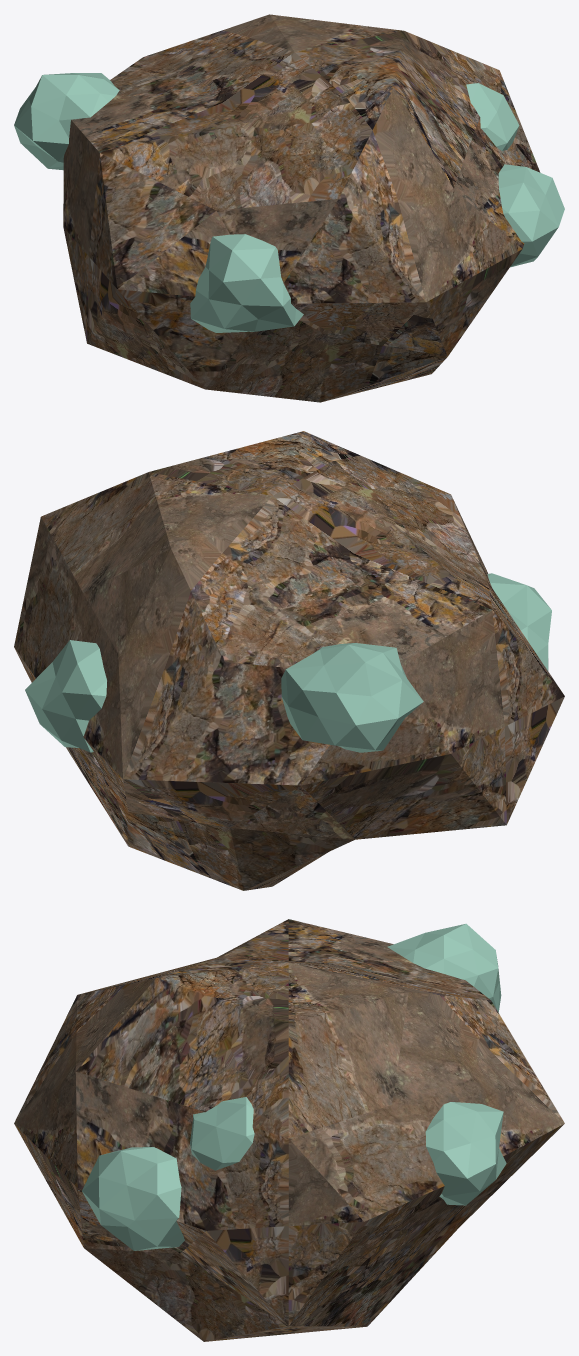
File: copper_ore.glb
The picture shows the model from 3 angles, top to bottom: view 1: azimuth 30°, elevation 25°; view 2: azimuth 150°, elevation 25°; view 3: azimuth 270°, elevation 25°; orthographic projection. The views are drawn at different scales.
Visible parts, largest first — view 1: rock, v2, v1, v0, v5; view 2: rock, v1, v3, v2; view 3: rock, v0, v3, v1, v5.
Part boxes in pixels (<box>): rock: <box>63,14,540,402</box>; v2: <box>190,234,303,332</box>; v1: <box>14,73,119,170</box>; v0: <box>498,164,564,267</box>; v5: <box>466,83,519,150</box>; rock: <box>14,431,564,890</box>; v1: <box>281,643,423,752</box>; v3: <box>25,640,106,752</box>; v2: <box>487,573,551,670</box>; rock: <box>14,919,564,1341</box>; v0: <box>82,1147,184,1250</box>; v3: <box>425,1102,506,1205</box>; v1: <box>387,923,501,1012</box>; v5: <box>190,1097,254,1170</box>.
Size of the model in its own units: 0.17 by 0.1319 by 0.1811.
Materials: 2 (1 with a texture image).
